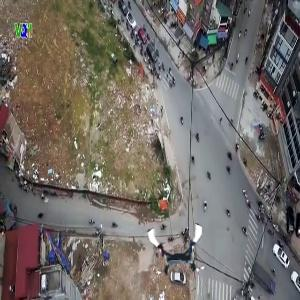drone: (148, 221, 207, 280)
